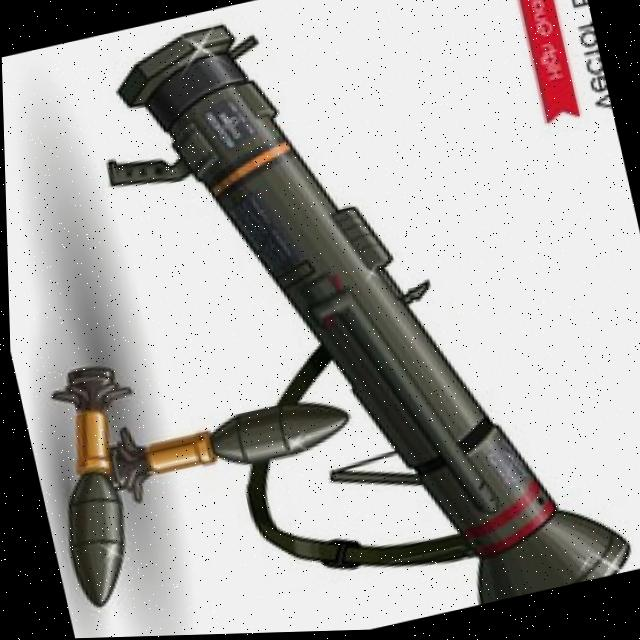grenade: (25, 355, 177, 613), (95, 377, 355, 509)
rocket: (77, 0, 638, 638)
